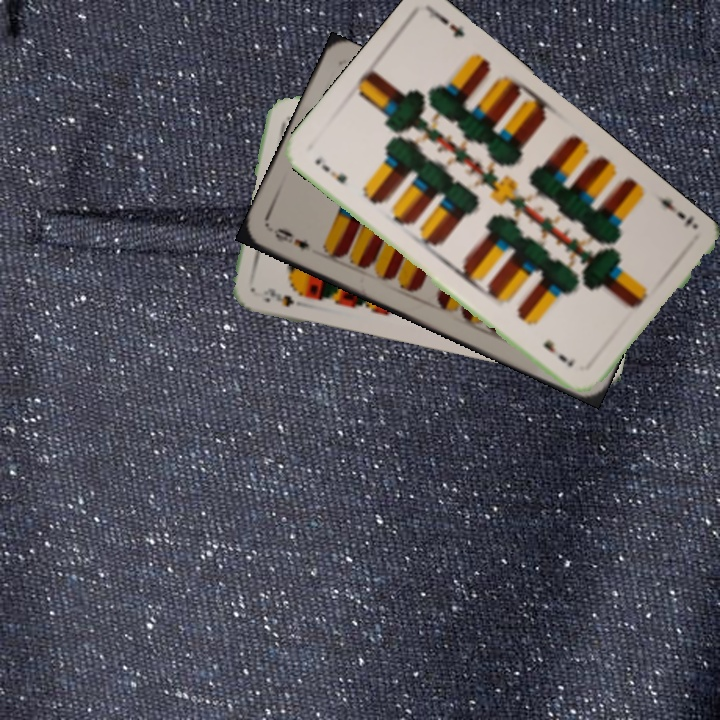E7: (650, 191, 697, 229), (310, 152, 350, 186)
E9: (270, 224, 312, 252)
S9: (259, 284, 297, 310)
